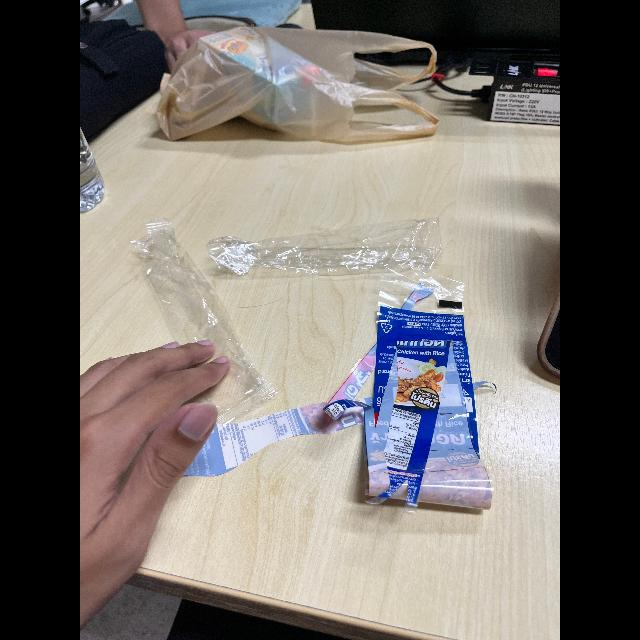scrap_plastic: (336, 284, 498, 526), (115, 235, 281, 412), (201, 212, 459, 288)
